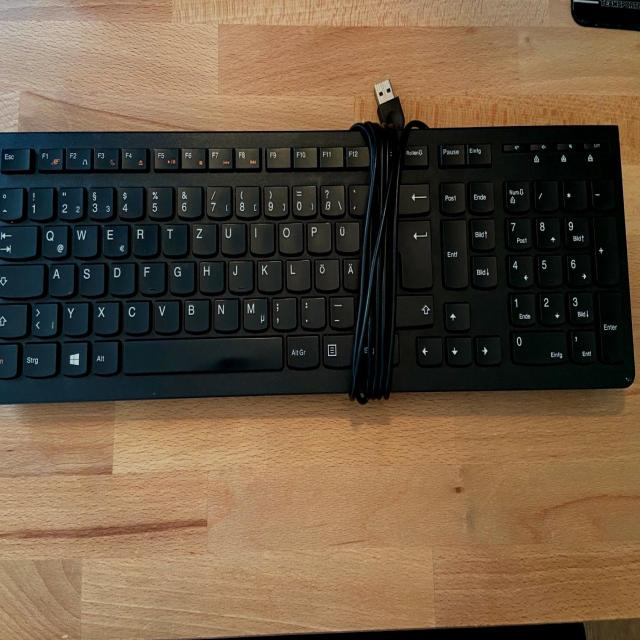0: (290, 181, 316, 215)
1: (27, 184, 53, 219)
2: (56, 184, 83, 218)
3: (85, 184, 113, 219)
4: (116, 183, 142, 217)
5: (145, 183, 172, 217)
6: (175, 183, 201, 216)
7: (205, 183, 231, 216)
8: (232, 183, 259, 216)
9: (262, 182, 288, 216)
a: (47, 261, 74, 296)
accent: (348, 181, 369, 214)
ae: (342, 255, 360, 289)
alt-left: (90, 337, 117, 374)
altgr-right: (283, 332, 319, 368)
b: (182, 296, 209, 331)
c: (122, 298, 149, 333)
caret: (0, 185, 22, 218)
comma: (270, 294, 296, 329)
d: (107, 259, 134, 294)
del: (396, 180, 430, 213)
e: (100, 221, 128, 256)
enter: (395, 217, 432, 289)
f: (138, 259, 164, 293)
g: (167, 258, 194, 293)
h: (197, 258, 223, 292)
i: (248, 219, 273, 253)
j: (226, 257, 252, 291)
k: (255, 257, 282, 291)
keyboard: (0, 118, 640, 403)
l: (284, 257, 310, 290)
less: (30, 299, 57, 335)
m: (240, 295, 267, 330)
minus: (327, 293, 354, 327)
n: (212, 295, 238, 330)
o: (276, 219, 302, 253)
oe: (313, 256, 339, 290)
p: (305, 219, 331, 252)
point: (298, 294, 325, 328)
q: (40, 222, 67, 257)
r: (130, 221, 157, 255)
s: (77, 261, 104, 296)
shift-left: (0, 301, 26, 337)
shift-lock: (0, 260, 43, 296)
shift-right: (391, 291, 435, 326)
space: (121, 334, 282, 372)
ss: (318, 181, 344, 215)
strg-left: (20, 339, 57, 376)
t: (160, 220, 187, 255)
tab: (0, 222, 36, 258)
u: (219, 220, 245, 254)
ue: (333, 219, 359, 252)
v: (152, 297, 179, 332)
w: (71, 221, 97, 256)
x: (92, 298, 118, 333)
y: (61, 299, 88, 334)
z: (190, 221, 216, 254)
